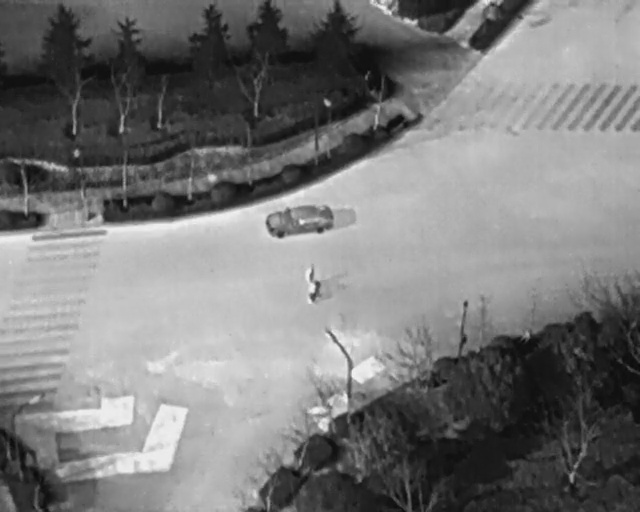Car: (263, 201, 337, 241)
Person: (308, 278, 320, 302), (307, 261, 315, 283)
